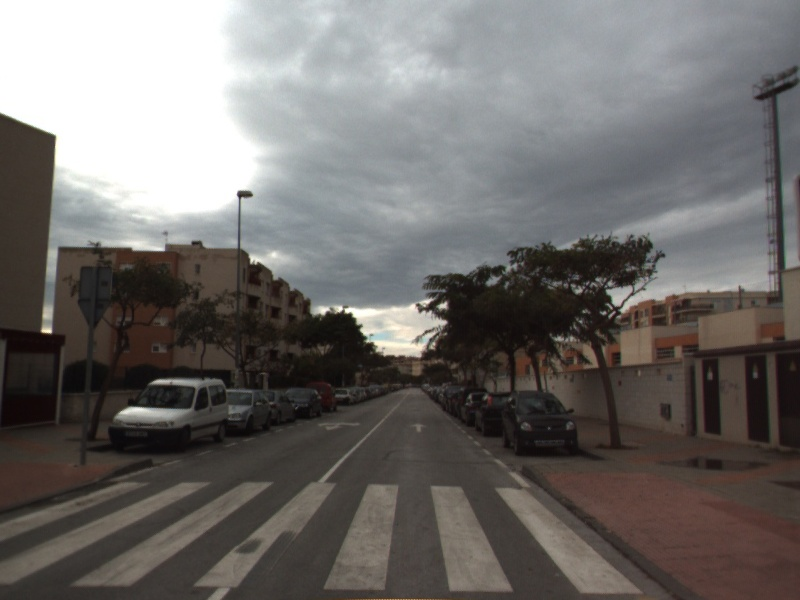STRAIGHT: (408, 421, 430, 434)
